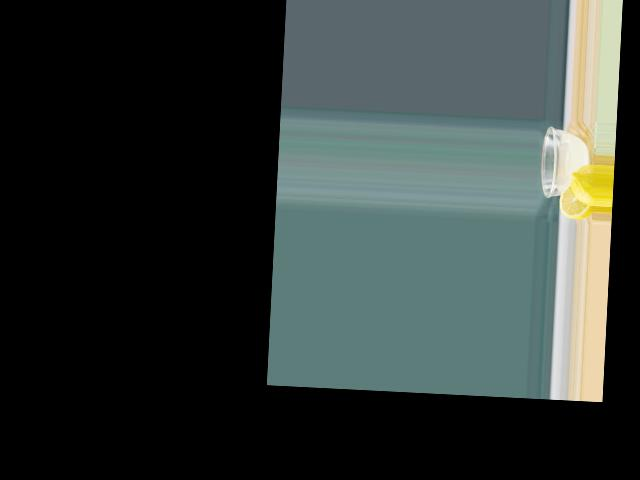lemon: (558, 163, 595, 218)
